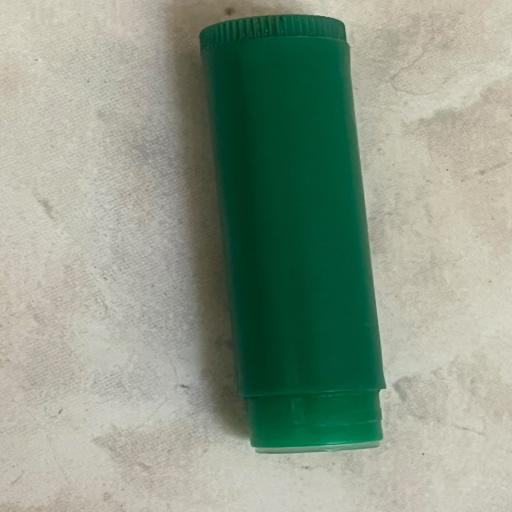HDPE: (110, 20, 464, 463)
